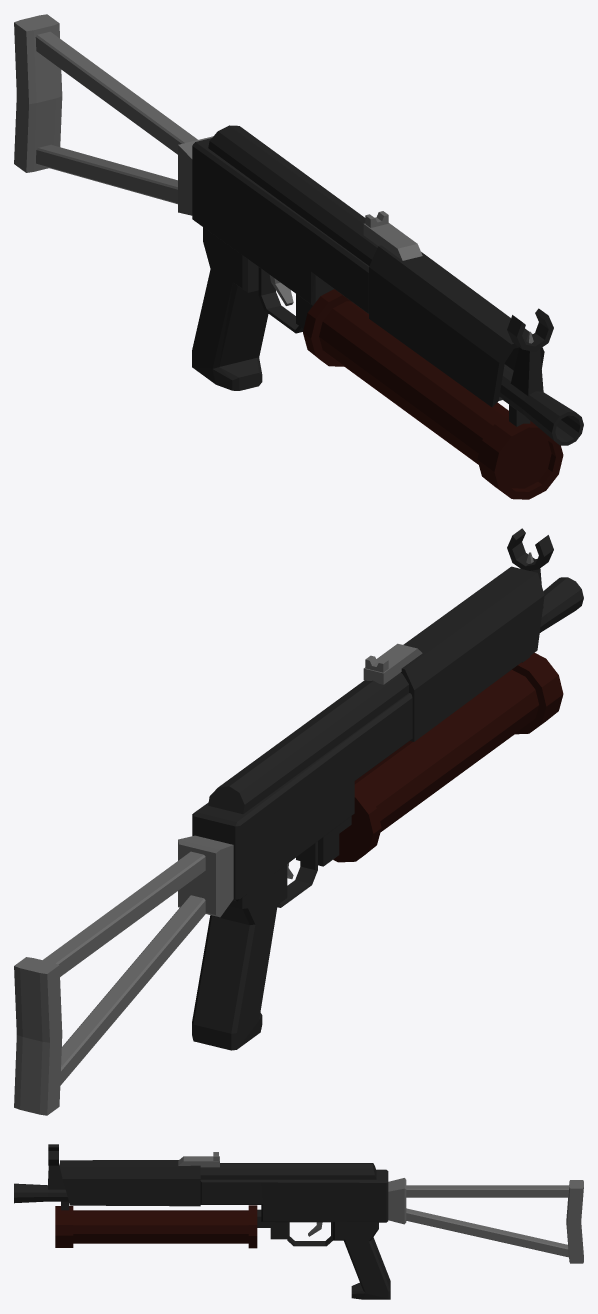
Rendered from Submachine Gun-wnFec6z9ii.glb.
The picture shows the model from 3 angles, top to bottom: view 1: azimuth 30°, elevation 25°; view 2: azimuth 150°, elevation 25°; view 3: azimuth 270°, elevation 25°; orthographic projection. The views are drawn at different scales.
Parts seen in each view (by area): view 1: SMG_04_Circle.001; view 2: SMG_04_Circle.001; view 3: SMG_04_Circle.001.
Part boxes in pixels (x1,y1,x2,y2): SMG_04_Circle.001: (14,14,583,499); SMG_04_Circle.001: (14,528,583,1115); SMG_04_Circle.001: (14,1144,583,1299).
Size of the model in its own units: 0.5436 by 2.06 by 7.17.
